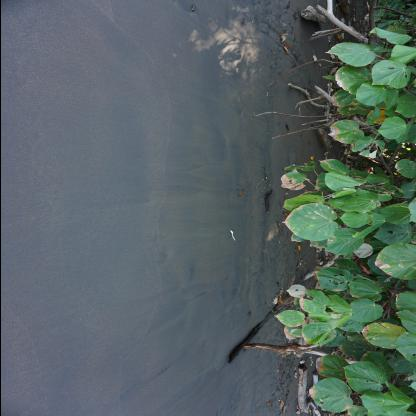plastik: (228, 230, 234, 240)
